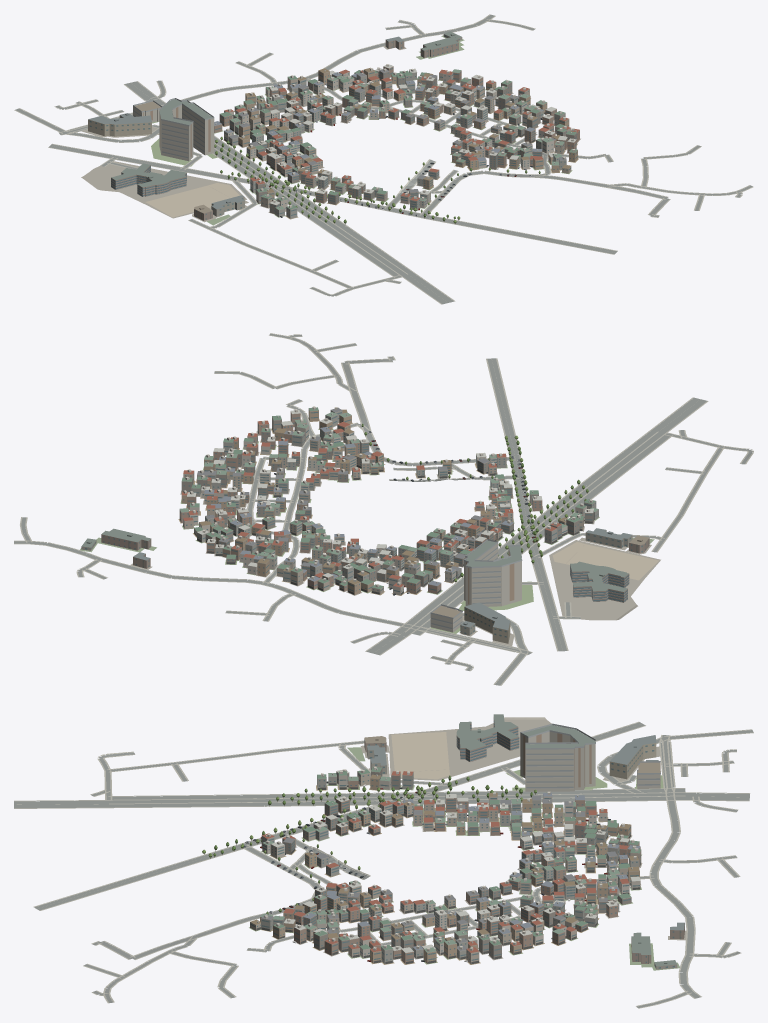
The picture shows the model from 3 angles, top to bottom: view 1: azimuth 30°, elevation 25°; view 2: azimuth 150°, elevation 25°; view 3: azimuth 270°, elevation 25°; orthographic projection. The views are drawn at different scales.
Parts seen in each view (by area): view 1: context-villa-infill, context-osm-roads, context-osm-sidewalks, context-osm-buildings, context-building-plinths; view 2: context-villa-infill, context-osm-roads, context-osm-sidewalks, context-osm-buildings, context-building-plinths; view 3: context-villa-infill, context-osm-roads, context-osm-sidewalks, context-osm-buildings, context-building-plinths.
Boxes of the visible parts, x1,y1,x2,y2 form: context-villa-infill: (214,64,580,224); context-osm-roads: (15,14,752,304); context-osm-sidewalks: (14,14,753,304); context-osm-buildings: (88,31,462,220); context-building-plinths: (81,35,464,225); context-villa-infill: (178,406,599,595); context-osm-roads: (14,333,752,685); context-osm-sidewalks: (14,333,753,685); context-osm-buildings: (81,528,649,643); context-building-plinths: (80,537,660,646); context-villa-infill: (202,766,642,964); context-osm-roads: (14,722,753,1007); context-osm-sidewalks: (14,721,753,1008); context-osm-buildings: (364,714,684,969); context-building-plinths: (347,717,686,970).
Bounding box in the file's own units: 663 × 46.51 × 713.
